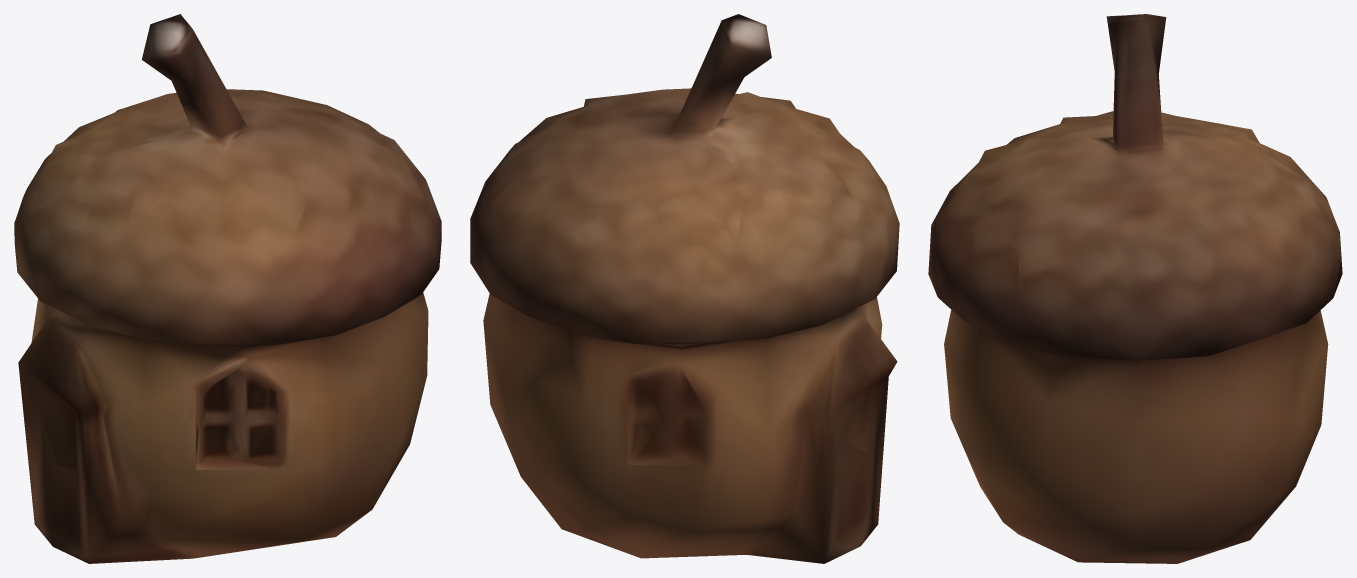
The model's file is AcornHouse2.glb.
3 renders of one model, left to right at view 1: azimuth 30°, elevation 25°; view 2: azimuth 150°, elevation 25°; view 3: azimuth 270°, elevation 25°, orthographic. The views are drawn at different scales.
Parts seen in each view (by area): view 1: tripo_node_ae635005-684d-4a94-8274-0335d7639e48; view 2: tripo_node_ae635005-684d-4a94-8274-0335d7639e48; view 3: tripo_node_ae635005-684d-4a94-8274-0335d7639e48.
Part boxes in pixels (bbox=[...]): tripo_node_ae635005-684d-4a94-8274-0335d7639e48: bbox=[14, 14, 441, 563]; tripo_node_ae635005-684d-4a94-8274-0335d7639e48: bbox=[470, 14, 899, 563]; tripo_node_ae635005-684d-4a94-8274-0335d7639e48: bbox=[928, 14, 1342, 563].
Size of the model in its own units: 0.7818 by 0.9823 by 0.7703.
1 material, 1 textured.
